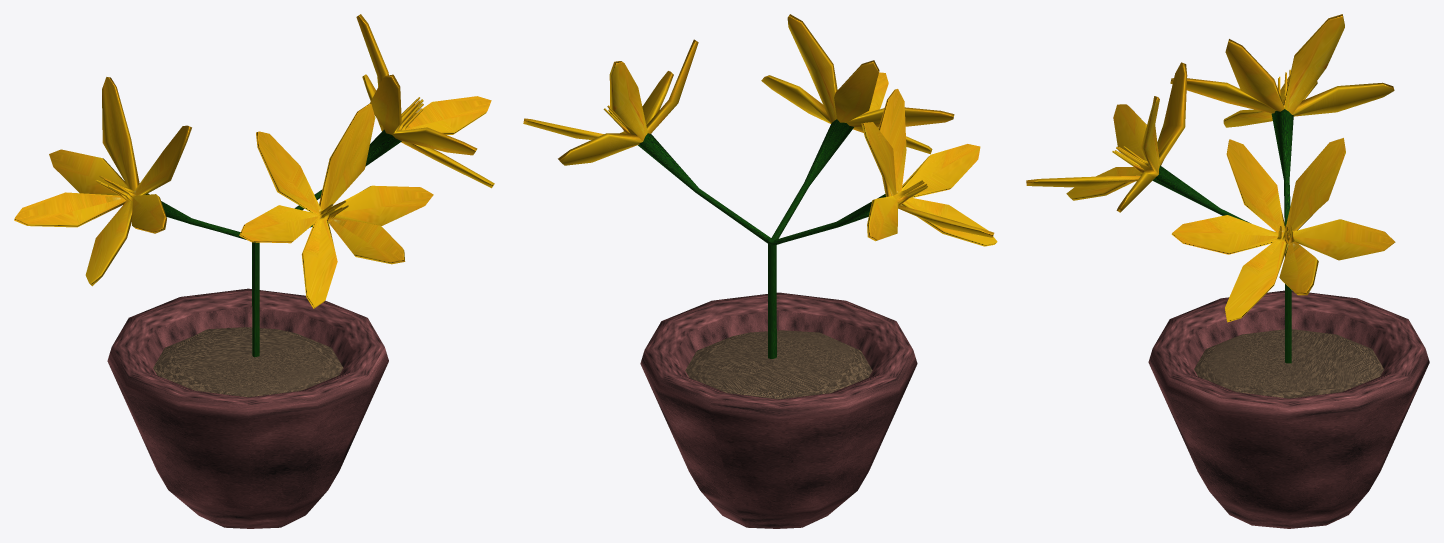
Rendered from smallflowerpot2.fbx.
3 views of the same model, side by side, from view 1: azimuth 30°, elevation 25°; view 2: azimuth 150°, elevation 25°; view 3: azimuth 270°, elevation 25° (orthographic).
Visible parts, largest first — view 1: pot, yelowtigerlily, dirt; view 2: pot, yelowtigerlily, dirt; view 3: pot, yelowtigerlily, dirt.
Boxes of the visible parts, <box> form: pot: <box>107,288,388,528</box>; yelowtigerlily: <box>14,14,494,357</box>; dirt: <box>153,327,343,397</box>; pot: <box>640,292,917,528</box>; yelowtigerlily: <box>523,14,997,358</box>; dirt: <box>685,330,872,399</box>; pot: <box>1148,290,1429,528</box>; yelowtigerlily: <box>1026,14,1395,363</box>; dirt: <box>1194,329,1384,398</box>.
Bounding box in the file's own units: 0.696 × 0.6132 × 0.5104.
